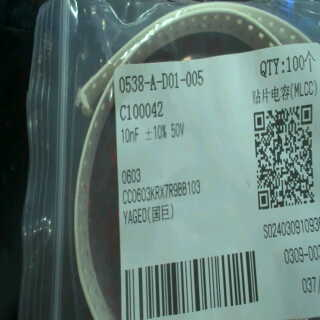10nF: (119, 125, 143, 146)
